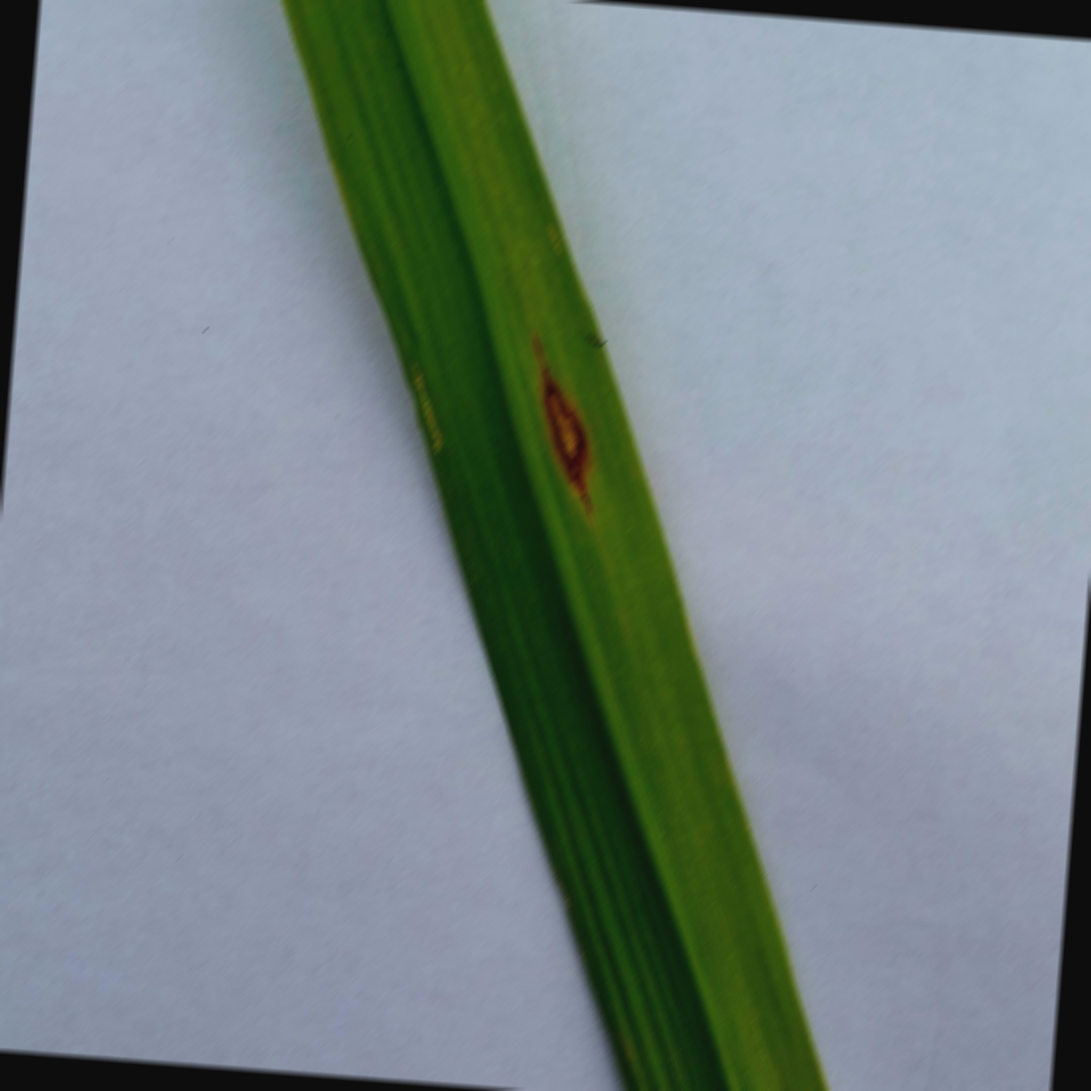Brown_Spot: (508, 322, 620, 504)
